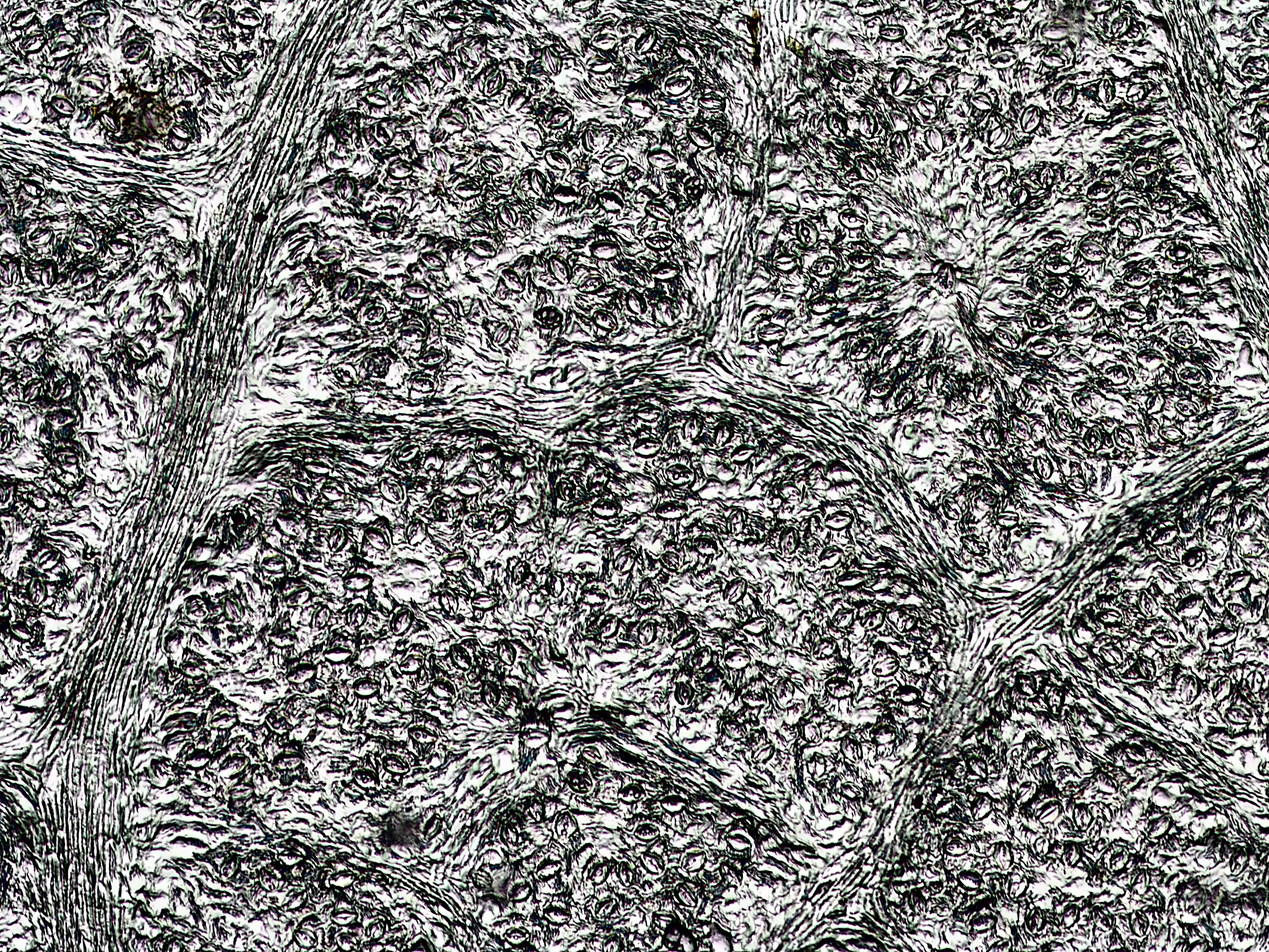stomata: (1172, 672, 1203, 706), (226, 504, 254, 541), (73, 1, 111, 28), (281, 230, 311, 263), (359, 524, 395, 551), (618, 96, 658, 120), (48, 442, 83, 469), (676, 846, 709, 874), (288, 921, 321, 949), (395, 319, 432, 343), (404, 720, 439, 745), (644, 146, 679, 171), (378, 476, 407, 506), (34, 545, 63, 575), (218, 594, 246, 625), (314, 702, 346, 729), (217, 751, 250, 777), (0, 256, 26, 289), (1078, 238, 1111, 264), (647, 259, 684, 282), (542, 106, 576, 131), (547, 253, 576, 282), (851, 154, 880, 183), (576, 580, 611, 604), (838, 734, 866, 764), (387, 605, 414, 636), (518, 120, 545, 151), (1069, 391, 1100, 418), (375, 752, 413, 774), (343, 599, 369, 631), (496, 267, 528, 293), (886, 129, 912, 161), (24, 574, 49, 607), (274, 512, 303, 540), (120, 336, 148, 365), (670, 881, 700, 908), (552, 810, 579, 840), (253, 865, 283, 892), (1089, 904, 1119, 931), (870, 654, 901, 680), (46, 33, 78, 58), (76, 72, 108, 97), (1196, 240, 1228, 265), (405, 372, 438, 396), (888, 64, 912, 97), (715, 860, 743, 888), (17, 336, 46, 363), (1239, 894, 1266, 923), (724, 828, 754, 854), (329, 120, 359, 146), (912, 329, 938, 359), (41, 409, 82, 428), (1174, 595, 1205, 620), (614, 860, 638, 892), (158, 710, 196, 730), (867, 722, 900, 745), (260, 711, 293, 734), (66, 265, 99, 288), (1171, 275, 1204, 298), (146, 757, 174, 784), (218, 50, 246, 77), (279, 289, 306, 317), (655, 296, 682, 324), (724, 507, 750, 536), (637, 851, 666, 877), (969, 792, 995, 821), (1153, 566, 1179, 595), (1149, 524, 1179, 549), (519, 726, 550, 750), (179, 747, 210, 771), (594, 188, 625, 212), (990, 838, 1014, 869), (1126, 79, 1157, 103), (182, 598, 214, 621), (73, 344, 96, 376), (934, 262, 955, 297), (334, 274, 361, 301), (1001, 873, 1027, 901), (431, 497, 456, 526), (18, 376, 43, 405), (1070, 619, 1099, 644), (827, 58, 856, 83), (823, 676, 853, 700), (496, 819, 520, 849), (66, 482, 96, 506), (233, 5, 263, 29), (796, 218, 820, 248), (1239, 55, 1269, 79), (612, 783, 646, 804), (587, 240, 621, 261), (1021, 310, 1055, 331), (837, 779, 868, 802), (326, 868, 357, 891), (50, 372, 73, 403), (944, 30, 975, 53), (1162, 240, 1193, 263), (325, 362, 357, 384), (188, 538, 214, 565), (431, 56, 457, 83), (722, 576, 747, 604), (1043, 252, 1071, 277), (777, 526, 801, 555), (669, 625, 698, 649), (565, 770, 594, 794), (549, 696, 578, 720), (448, 643, 472, 672), (425, 678, 454, 702), (435, 588, 459, 617), (624, 286, 648, 315), (953, 868, 982, 892), (905, 890, 934, 914), (261, 553, 294, 574), (222, 781, 255, 802), (494, 638, 517, 668), (175, 67, 198, 97), (544, 148, 574, 171), (682, 173, 705, 203), (1135, 348, 1165, 371), (653, 501, 689, 520), (351, 767, 382, 789), (18, 178, 49, 200), (644, 201, 675, 223), (1222, 568, 1253, 590), (1018, 380, 1049, 402), (1117, 301, 1148, 323), (836, 206, 867, 228), (159, 729, 193, 749), (24, 486, 50, 512), (1108, 10, 1134, 36), (584, 468, 611, 493), (1182, 545, 1207, 572), (1195, 705, 1222, 730), (680, 413, 704, 441), (46, 94, 78, 115), (466, 238, 498, 259), (600, 153, 628, 177), (540, 46, 564, 74), (1067, 297, 1099, 318), (848, 337, 876, 361), (769, 253, 801, 274), (664, 462, 693, 485), (478, 680, 501, 709), (1235, 502, 1258, 531), (869, 376, 898, 399), (856, 110, 879, 139), (923, 125, 946, 154), (1039, 277, 1068, 300), (542, 905, 572, 927), (532, 306, 565, 326), (939, 834, 969, 856), (809, 256, 839, 278), (1039, 19, 1069, 41), (6, 619, 37, 640), (1091, 799, 1116, 825), (1095, 768, 1120, 794), (1014, 670, 1039, 696), (993, 326, 1019, 351), (880, 346, 906, 371), (482, 69, 506, 96), (1054, 409, 1078, 436), (982, 160, 1009, 184), (644, 231, 678, 250), (773, 677, 796, 705), (420, 813, 443, 841), (428, 303, 456, 326), (532, 266, 560, 289), (582, 124, 605, 152), (987, 460, 1015, 483), (265, 627, 297, 647), (285, 663, 317, 683), (1227, 842, 1247, 874), (755, 323, 787, 343), (806, 295, 838, 315), (843, 249, 875, 269), (1003, 744, 1025, 773), (1176, 364, 1205, 386), (632, 436, 662, 457), (524, 791, 545, 821), (696, 92, 726, 113), (590, 30, 620, 51), (932, 797, 962, 818), (590, 499, 623, 518), (197, 10, 230, 29), (488, 320, 512, 346), (632, 28, 656, 54), (1097, 643, 1123, 667), (826, 113, 852, 137), (914, 96, 940, 120), (420, 448, 443, 475), (398, 651, 425, 674), (686, 125, 713, 148), (898, 854, 921, 881), (886, 109, 913, 132), (985, 125, 1012, 148), (437, 553, 468, 573), (334, 176, 356, 204), (894, 385, 916, 413), (1050, 83, 1078, 105), (874, 23, 908, 41), (514, 495, 535, 524), (119, 40, 148, 61), (980, 418, 1001, 447), (629, 822, 661, 841), (350, 678, 382, 697), (382, 159, 414, 178), (711, 421, 735, 446), (185, 778, 215, 798), (373, 121, 397, 146), (1230, 925, 1254, 950), (1014, 780, 1038, 805), (797, 717, 820, 743), (721, 718, 747, 741), (749, 743, 775, 766), (288, 482, 314, 505), (534, 857, 560, 880), (401, 79, 424, 105), (965, 752, 988, 778), (1113, 425, 1139, 448), (927, 74, 953, 97), (450, 476, 485, 493), (778, 482, 805, 504), (308, 604, 330, 631), (478, 153, 505, 175), (1123, 741, 1150, 763), (1225, 601, 1247, 628), (1135, 654, 1157, 681), (1008, 413, 1030, 440), (1027, 339, 1060, 357), (1123, 269, 1156, 287), (270, 752, 301, 771), (988, 49, 1019, 68), (317, 480, 345, 501), (357, 303, 385, 324), (1025, 908, 1046, 936), (1020, 105, 1041, 133), (1096, 76, 1117, 104), (722, 650, 751, 670), (893, 685, 922, 705), (501, 926, 530, 946), (452, 180, 481, 200), (663, 74, 692, 94), (972, 373, 992, 402), (1091, 332, 1125, 349), (555, 476, 579, 500), (467, 591, 499, 609), (1084, 182, 1116, 200), (613, 548, 636, 573), (812, 635, 837, 658), (403, 520, 426, 545), (1208, 675, 1231, 700), (469, 869, 495, 891), (1146, 815, 1172, 837), (658, 794, 688, 813), (117, 205, 147, 224), (315, 242, 345, 261), (967, 913, 997, 932), (795, 189, 825, 208), (692, 534, 719, 555), (365, 916, 386, 943), (577, 272, 604, 293), (1129, 909, 1150, 936), (1244, 668, 1265, 695), (139, 74, 167, 94), (1073, 804, 1093, 832), (415, 347, 446, 365), (360, 89, 391, 107), (324, 528, 348, 551), (1105, 847, 1128, 871), (323, 645, 352, 664), (591, 311, 620, 330), (959, 535, 988, 554), (162, 629, 184, 654), (412, 73, 434, 98), (1060, 903, 1082, 928), (941, 496, 963, 521), (636, 619, 657, 645), (331, 931, 357, 952), (93, 111, 119, 132), (1103, 364, 1129, 385), (1118, 217, 1144, 238), (341, 573, 373, 590), (674, 679, 694, 706), (37, 258, 55, 288), (420, 251, 447, 271), (973, 782, 1000, 802), (1138, 587, 1156, 617), (368, 211, 396, 230), (1093, 607, 1121, 626), (1169, 330, 1197, 349), (660, 549, 683, 572), (281, 694, 304, 717), (586, 861, 608, 885), (498, 202, 520, 226), (456, 46, 480, 68), (1009, 186, 1033, 208), (582, 57, 613, 74), (1047, 683, 1064, 714), (219, 855, 240, 880), (506, 880, 531, 901), (985, 810, 1010, 831), (1211, 626, 1236, 647), (1083, 426, 1104, 451), (1043, 377, 1068, 398), (178, 662, 207, 680), (7, 8, 36, 26), (1224, 706, 1253, 724), (806, 751, 826, 777), (28, 225, 54, 245), (150, 250, 170, 276), (528, 168, 548, 194), (1239, 538, 1265, 558), (1248, 594, 1268, 620), (1249, 13, 1269, 39), (284, 588, 311, 607), (1150, 629, 1180, 646), (507, 88, 529, 111), (1008, 902, 1030, 925), (1160, 833, 1182, 856), (597, 614, 618, 638), (824, 510, 852, 528), (208, 711, 236, 729), (276, 848, 304, 866), (284, 889, 308, 910), (575, 292, 599, 313), (438, 114, 466, 132), (496, 136, 520, 157), (673, 43, 697, 64), (1060, 841, 1081, 865), (393, 441, 418, 461), (301, 460, 332, 476), (432, 148, 451, 174), (106, 238, 135, 255), (994, 511, 1023, 528), (1151, 193, 1178, 211), (818, 547, 841, 568), (1142, 887, 1163, 910), (913, 285, 936, 306), (830, 607, 854, 627), (1144, 392, 1164, 416), (968, 91, 992, 111), (1132, 158, 1160, 175), (859, 611, 884, 630), (164, 134, 189, 153), (1174, 398, 1199, 417), (926, 364, 945, 389), (740, 688, 766, 706), (70, 235, 96, 253), (1158, 138, 1184, 156), (1168, 156, 1194, 174), (1039, 52, 1070, 67), (691, 646, 712, 668), (468, 215, 491, 235), (553, 184, 580, 201), (440, 14, 467, 31), (1158, 426, 1185, 443), (326, 908, 356, 923), (1034, 455, 1052, 480), (652, 911, 678, 928), (1143, 418, 1160, 444), (1037, 803, 1058, 824), (998, 23, 1019, 44), (545, 573, 564, 596), (1028, 746, 1047, 769), (741, 617, 768, 633), (511, 560, 529, 584), (579, 744, 603, 762), (592, 899, 616, 917), (171, 123, 195, 141), (1032, 834, 1050, 858), (633, 592, 658, 609), (1065, 477, 1090, 494), (835, 572, 863, 587), (21, 32, 43, 51), (357, 646, 375, 669), (730, 445, 754, 462), (717, 680, 734, 704), (1084, 207, 1108, 224), (401, 283, 430, 297), (532, 197, 559, 212), (896, 612, 916, 632), (959, 459, 984, 475), (490, 511, 509, 532), (601, 933, 622, 952), (928, 775, 946, 797), (1131, 869, 1148, 892), (1039, 166, 1055, 190), (1088, 868, 1107, 888), (516, 213, 534, 234), (811, 170, 829, 191), (473, 444, 498, 459), (922, 627, 939, 649), (891, 879, 913, 896), (1040, 716, 1057, 738), (431, 128, 450, 147), (922, 864, 941, 883), (692, 799, 716, 814), (762, 650, 783, 667), (1210, 504, 1229, 522), (440, 33, 455, 55), (808, 113, 823, 135), (958, 546, 971, 571), (507, 459, 525, 477), (355, 357, 375, 373), (971, 555, 991, 571), (990, 540, 1005, 561), (1089, 821, 1102, 845), (509, 477, 526, 495), (987, 17, 1005, 34), (143, 315, 162, 331), (911, 847, 926, 867), (1003, 553, 1018, 573), (1028, 522, 1048, 536), (148, 295, 164, 311), (1214, 520, 1229, 537), (533, 569, 546, 588), (333, 142, 349, 157), (921, 832, 933, 849), (566, 116, 576, 134), (350, 128, 360, 145), (1095, 835, 1105, 852)
